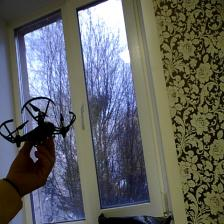drone: (1, 89, 78, 165)
